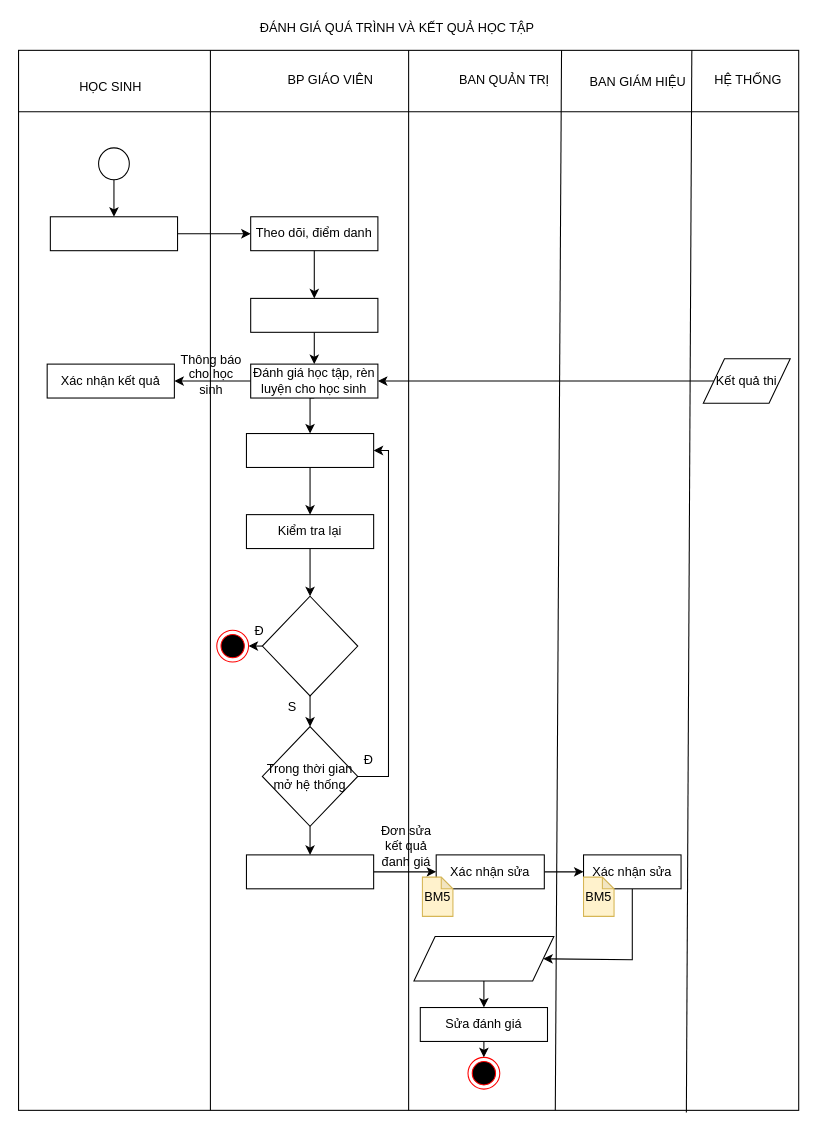
This 817x1132 diagram has some shape labels left out. Each missing label, with the centre of its shape:
"Làm đơn sửa" belongs at point (309, 871).
"Lưu kết quả theo dõi" belongs at point (314, 314).
"Nhập vào hệ thống" belongs at point (309, 449).
"Nhập đúng" belongs at point (309, 645).
"Tham gia học tập" belongs at point (113, 233).
"Đơn sửa đã được xác nhận" belongs at point (483, 958).
